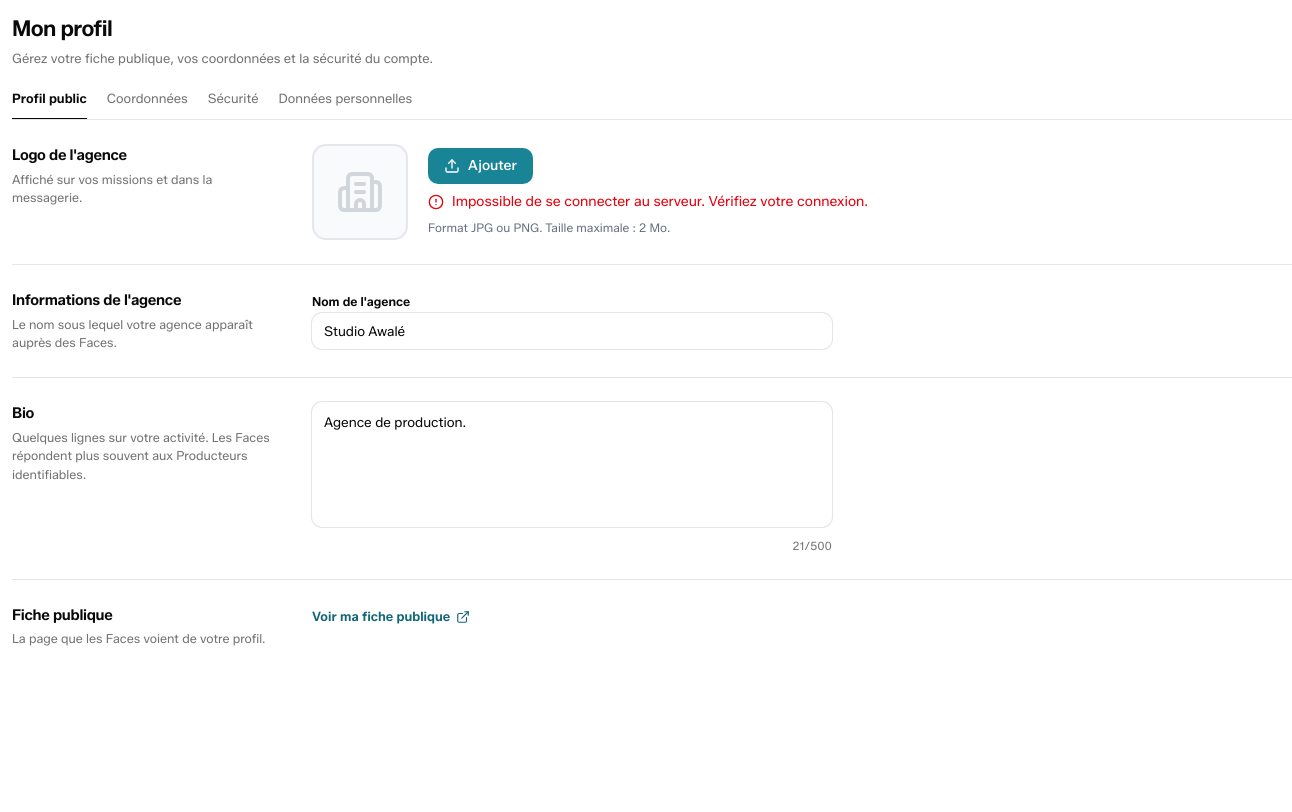
Test case: Producer ProfileEditPage — Régie settings page › dirty tracking and save bar › appears for a bio edit and for a WhatsApp edit (single bar for both tabs)
The width and height of the screenshot is (1292, 812).
Replace the text in the text box with test id "bio-textarea" with "Nouvelle bio": point(572, 464) [312,402,832,527]
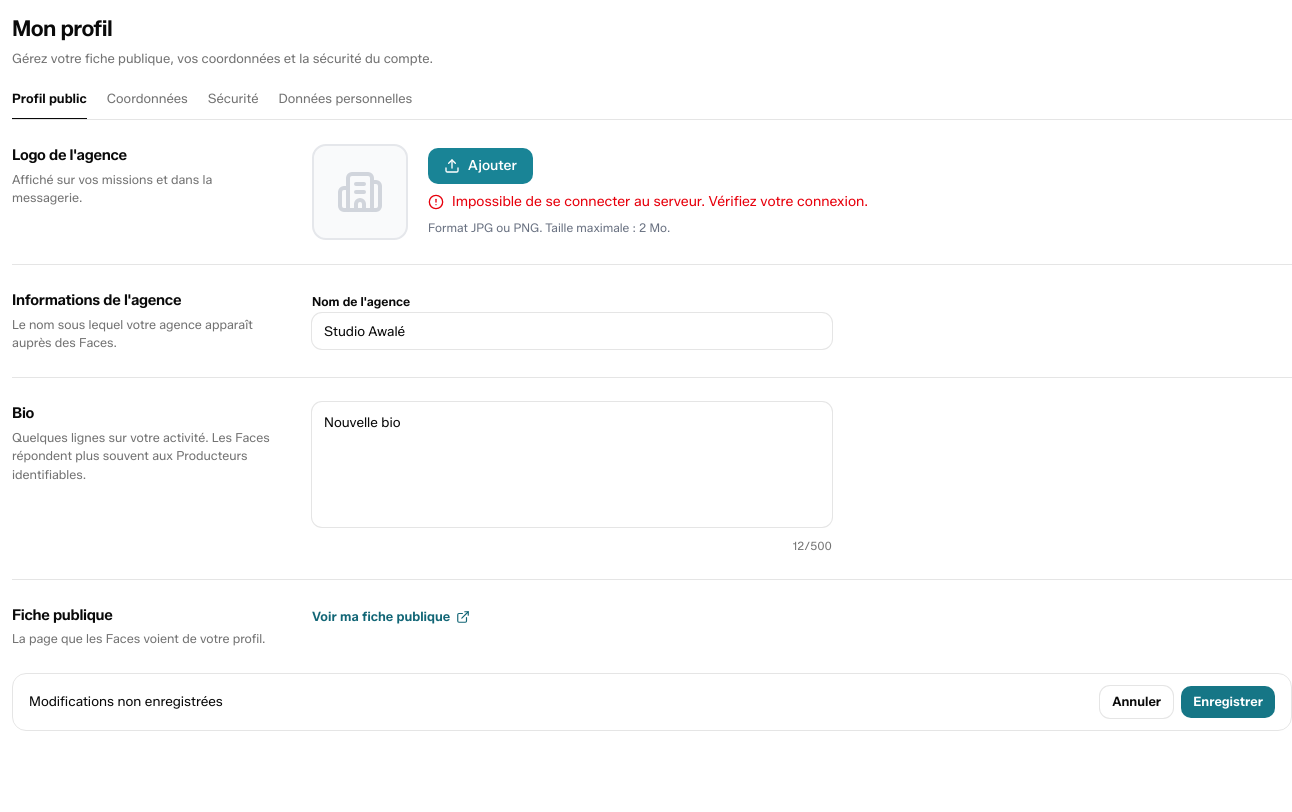
Check: the element with test id "r-sticky-save-bar" is shown, box [12,673,1291,731]
Click the button with test id "r-save-cancel": point(1137, 702) [1100,686,1173,718]
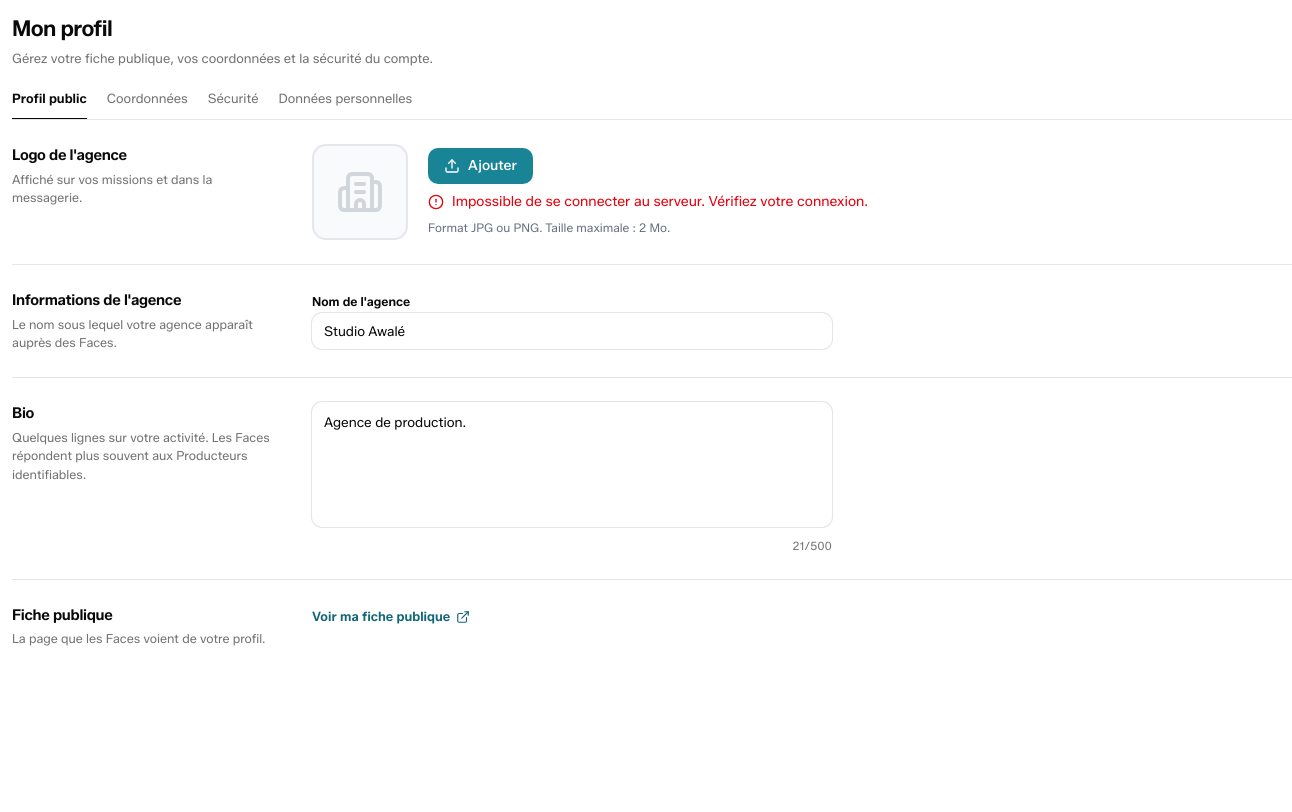
Click the tab with test id "profile-tab-coordonnees": point(147, 104) [107,88,188,120]
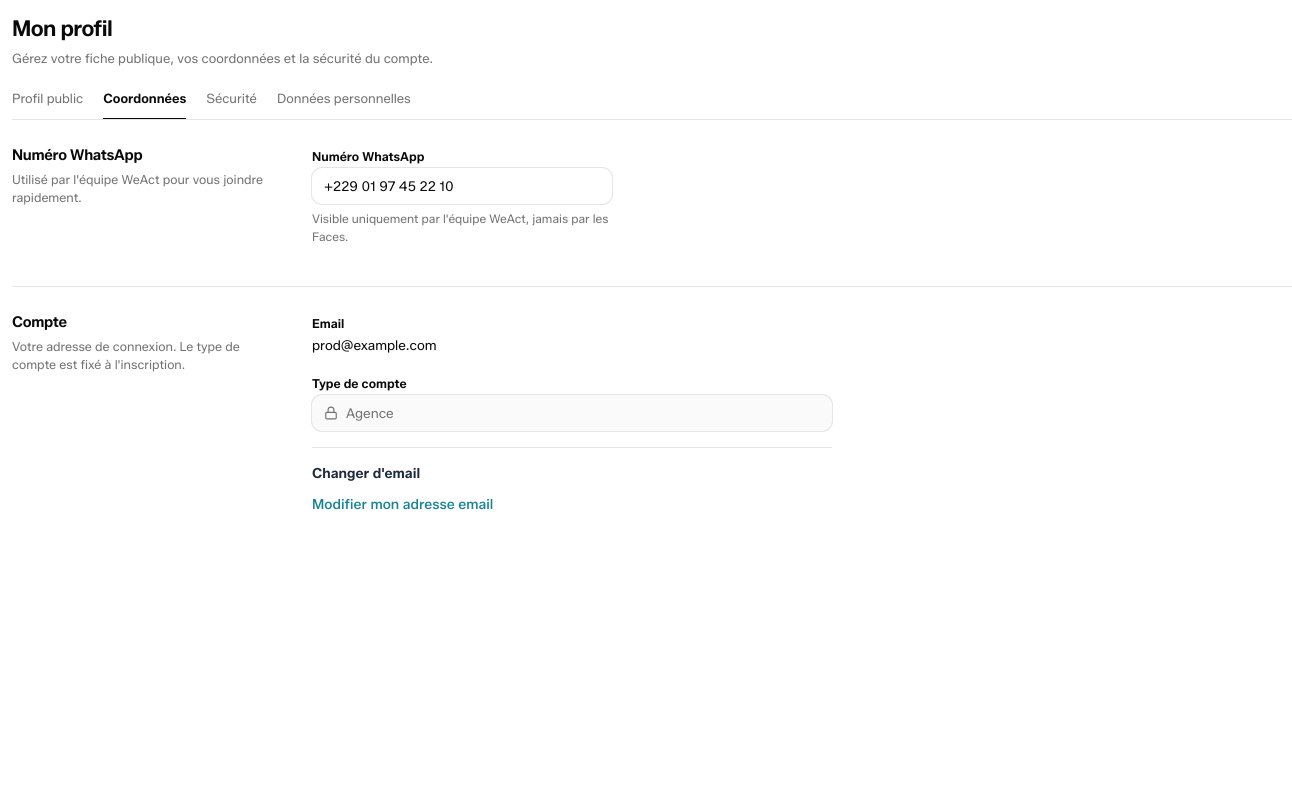
Replace the text in the field with test id "whatsapp-number-input" with "+229 01 11 11 11 11": point(462, 186) [312,168,612,204]
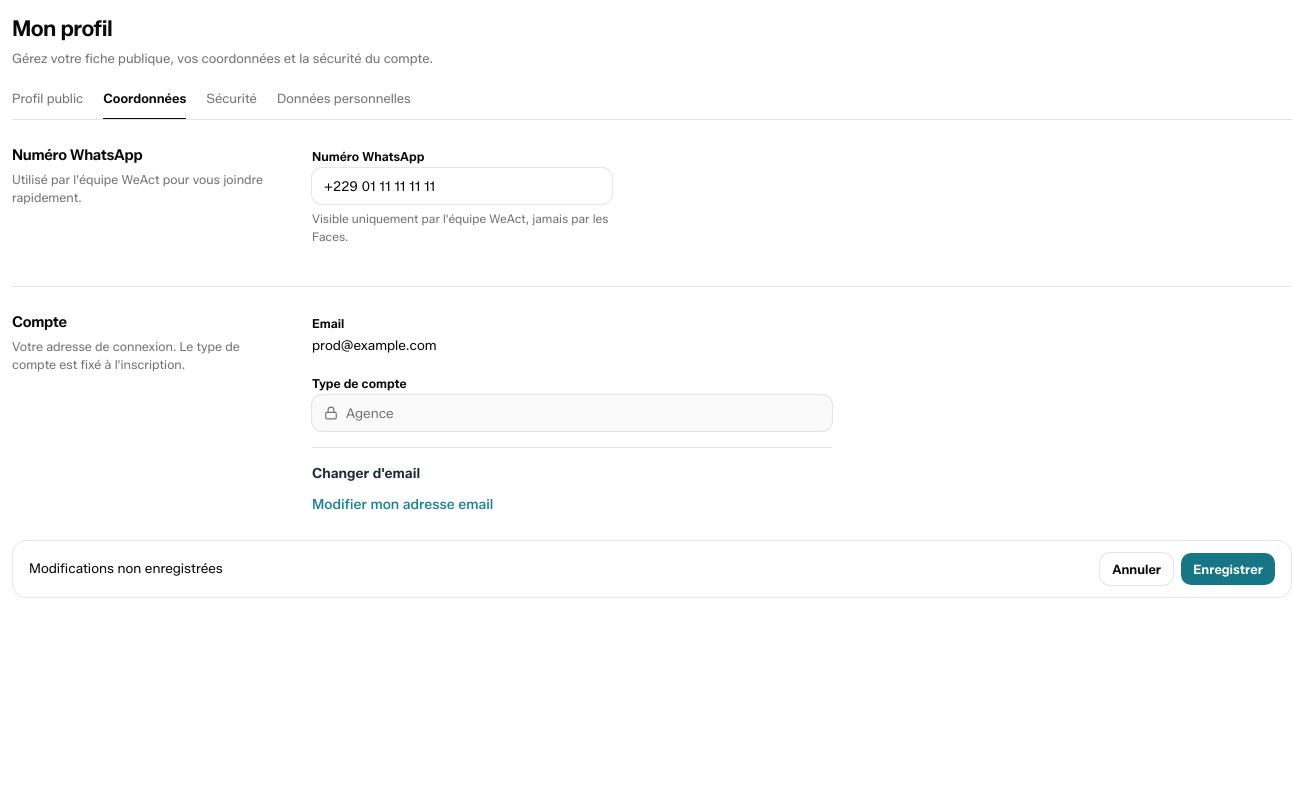
Check: the element with test id "r-sticky-save-bar" is shown, box [12,540,1291,598]
